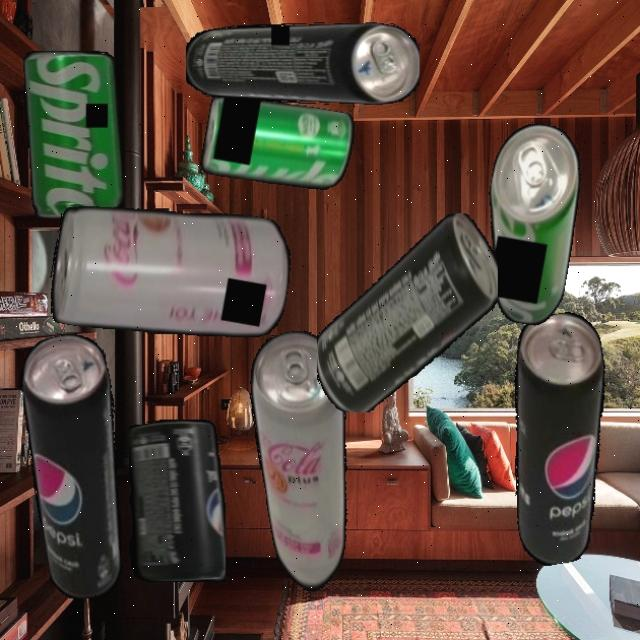debris: (42, 184, 298, 361), (484, 308, 637, 569), (239, 325, 378, 601), (9, 329, 146, 604), (316, 212, 498, 412), (468, 118, 592, 329), (185, 22, 419, 105), (199, 90, 358, 197), (23, 50, 124, 218), (128, 420, 226, 582)
